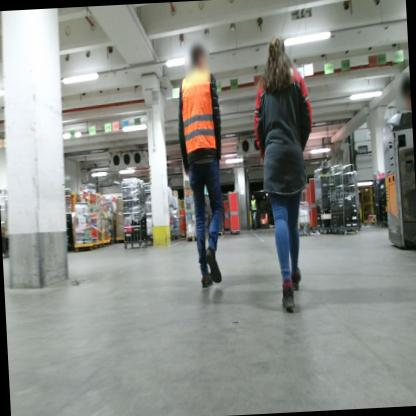pallet: (184, 230, 209, 243), (211, 227, 229, 239)
pallet_truck: (377, 102, 416, 258)
